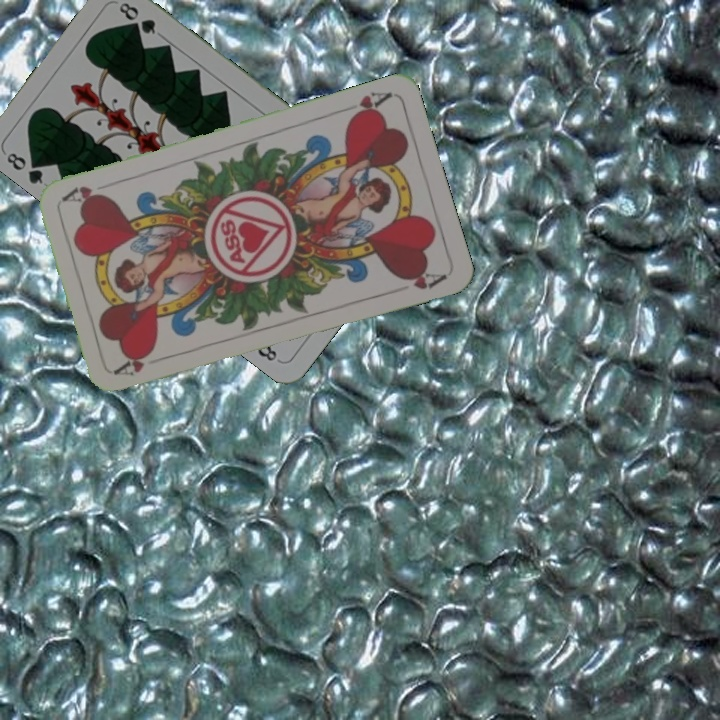G8: (2, 148, 48, 187)
HA: (343, 87, 394, 124), (112, 350, 171, 379)
